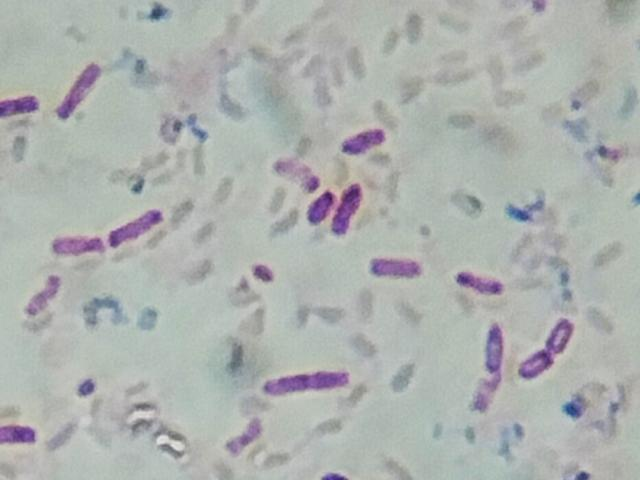E. coli: (263, 369, 358, 403), (61, 62, 104, 118), (111, 205, 167, 247), (476, 327, 504, 410), (26, 273, 60, 321), (0, 87, 41, 126), (343, 125, 392, 157), (369, 250, 419, 280), (53, 226, 100, 256), (458, 265, 503, 296), (0, 412, 36, 448), (226, 416, 258, 455), (335, 185, 358, 239), (305, 187, 329, 225), (521, 352, 550, 382), (548, 316, 567, 353)
